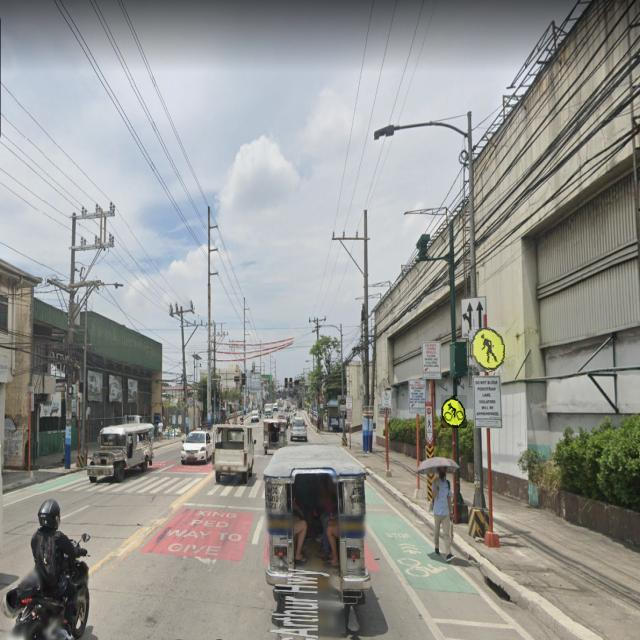bike lane: (441, 395, 467, 428)
pedestrian crossing: (469, 327, 505, 372)
